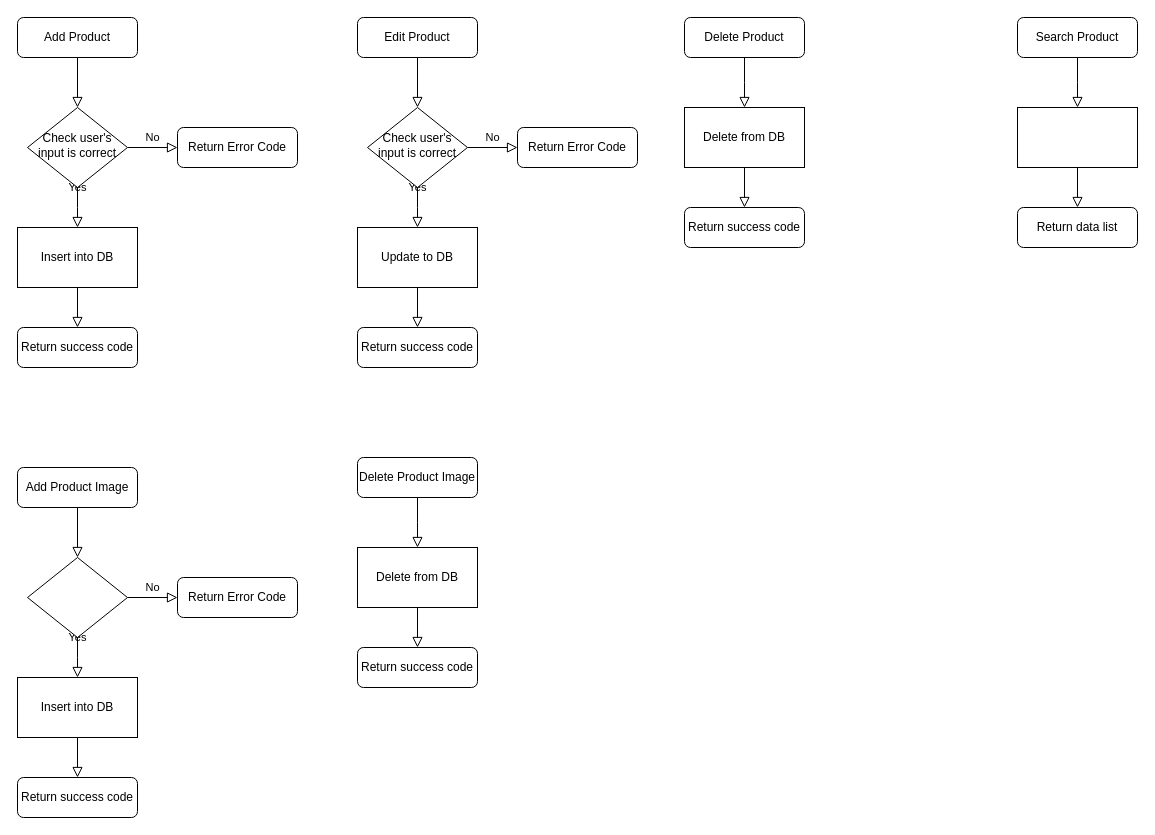
This 1155x835 diagram has some shape labels left out. The centre of each missing label's shape, as x and y in pixels:
"Check is it less than 4" goes at pixel 77 597.
"Search from DB" goes at pixel 1077 137.
